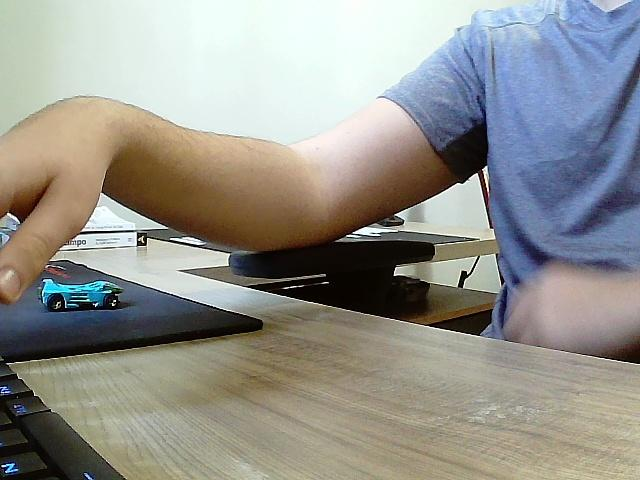Carro: (38, 281, 130, 312)
